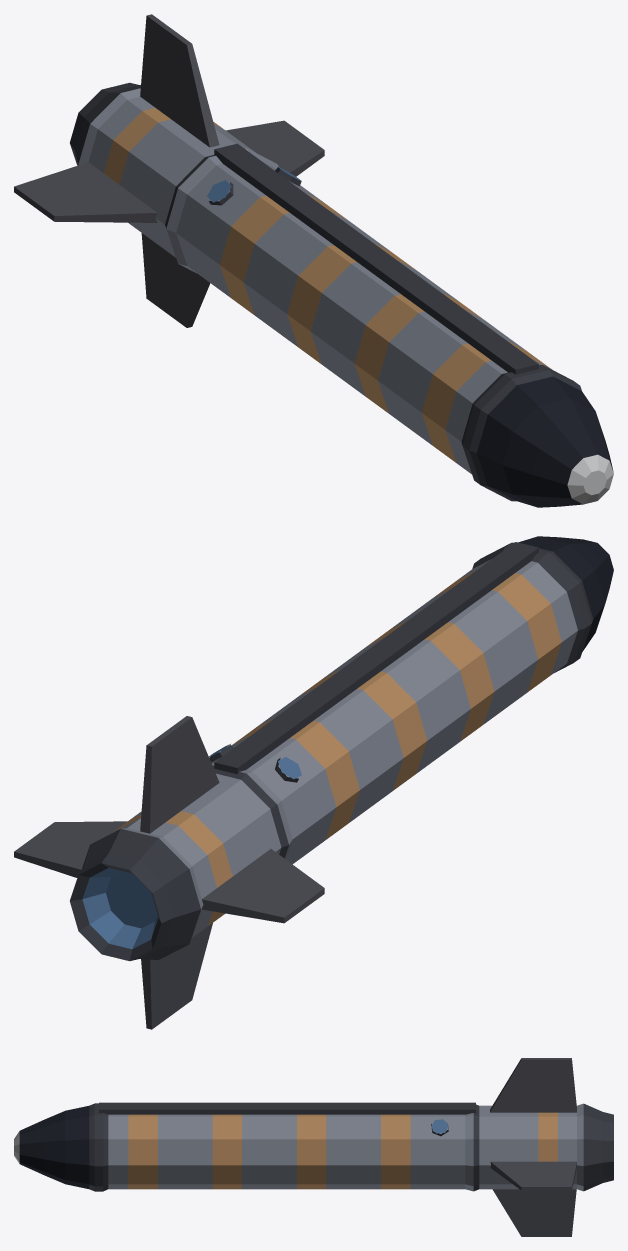
Rendered from missile-0717d1.glb.
The picture shows the model from 3 angles, top to bottom: view 1: azimuth 30°, elevation 25°; view 2: azimuth 150°, elevation 25°; view 3: azimuth 270°, elevation 25°; orthographic projection. The views are drawn at different scales.
Visible parts, largest first — view 1: body, fin-3-blade, fin-4-blade, fin-1-blade, fin-2-blade; view 2: body, fin-3-blade, fin-4-blade, fin-1-blade, fin-2-blade; view 3: body, fin-3-blade, fin-1-blade, fin-2-blade.
Part boxes in pixels (left/top/right/bottom): body: left=70, top=82, right=613, bottom=507; fin-3-blade: left=140, top=14, right=219, bottom=147; fin-4-blade: left=14, top=162, right=157, bottom=222; fin-1-blade: left=141, top=233, right=210, bottom=327; fin-2-blade: left=226, top=120, right=324, bottom=176; body: left=70, top=536, right=613, bottom=961; fin-3-blade: left=140, top=716, right=219, bottom=833; fin-4-blade: left=202, top=849, right=324, bottom=923; fin-1-blade: left=141, top=923, right=212, bottom=1029; fin-2-blade: left=14, top=821, right=127, bottom=877; body: left=14, top=1102, right=613, bottom=1191; fin-3-blade: left=490, top=1058, right=576, bottom=1112; fin-1-blade: left=492, top=1189, right=576, bottom=1236; fin-2-blade: left=490, top=1161, right=576, bottom=1190.
Size of the model in its own units: 0.696 by 0.696 by 2.14.
